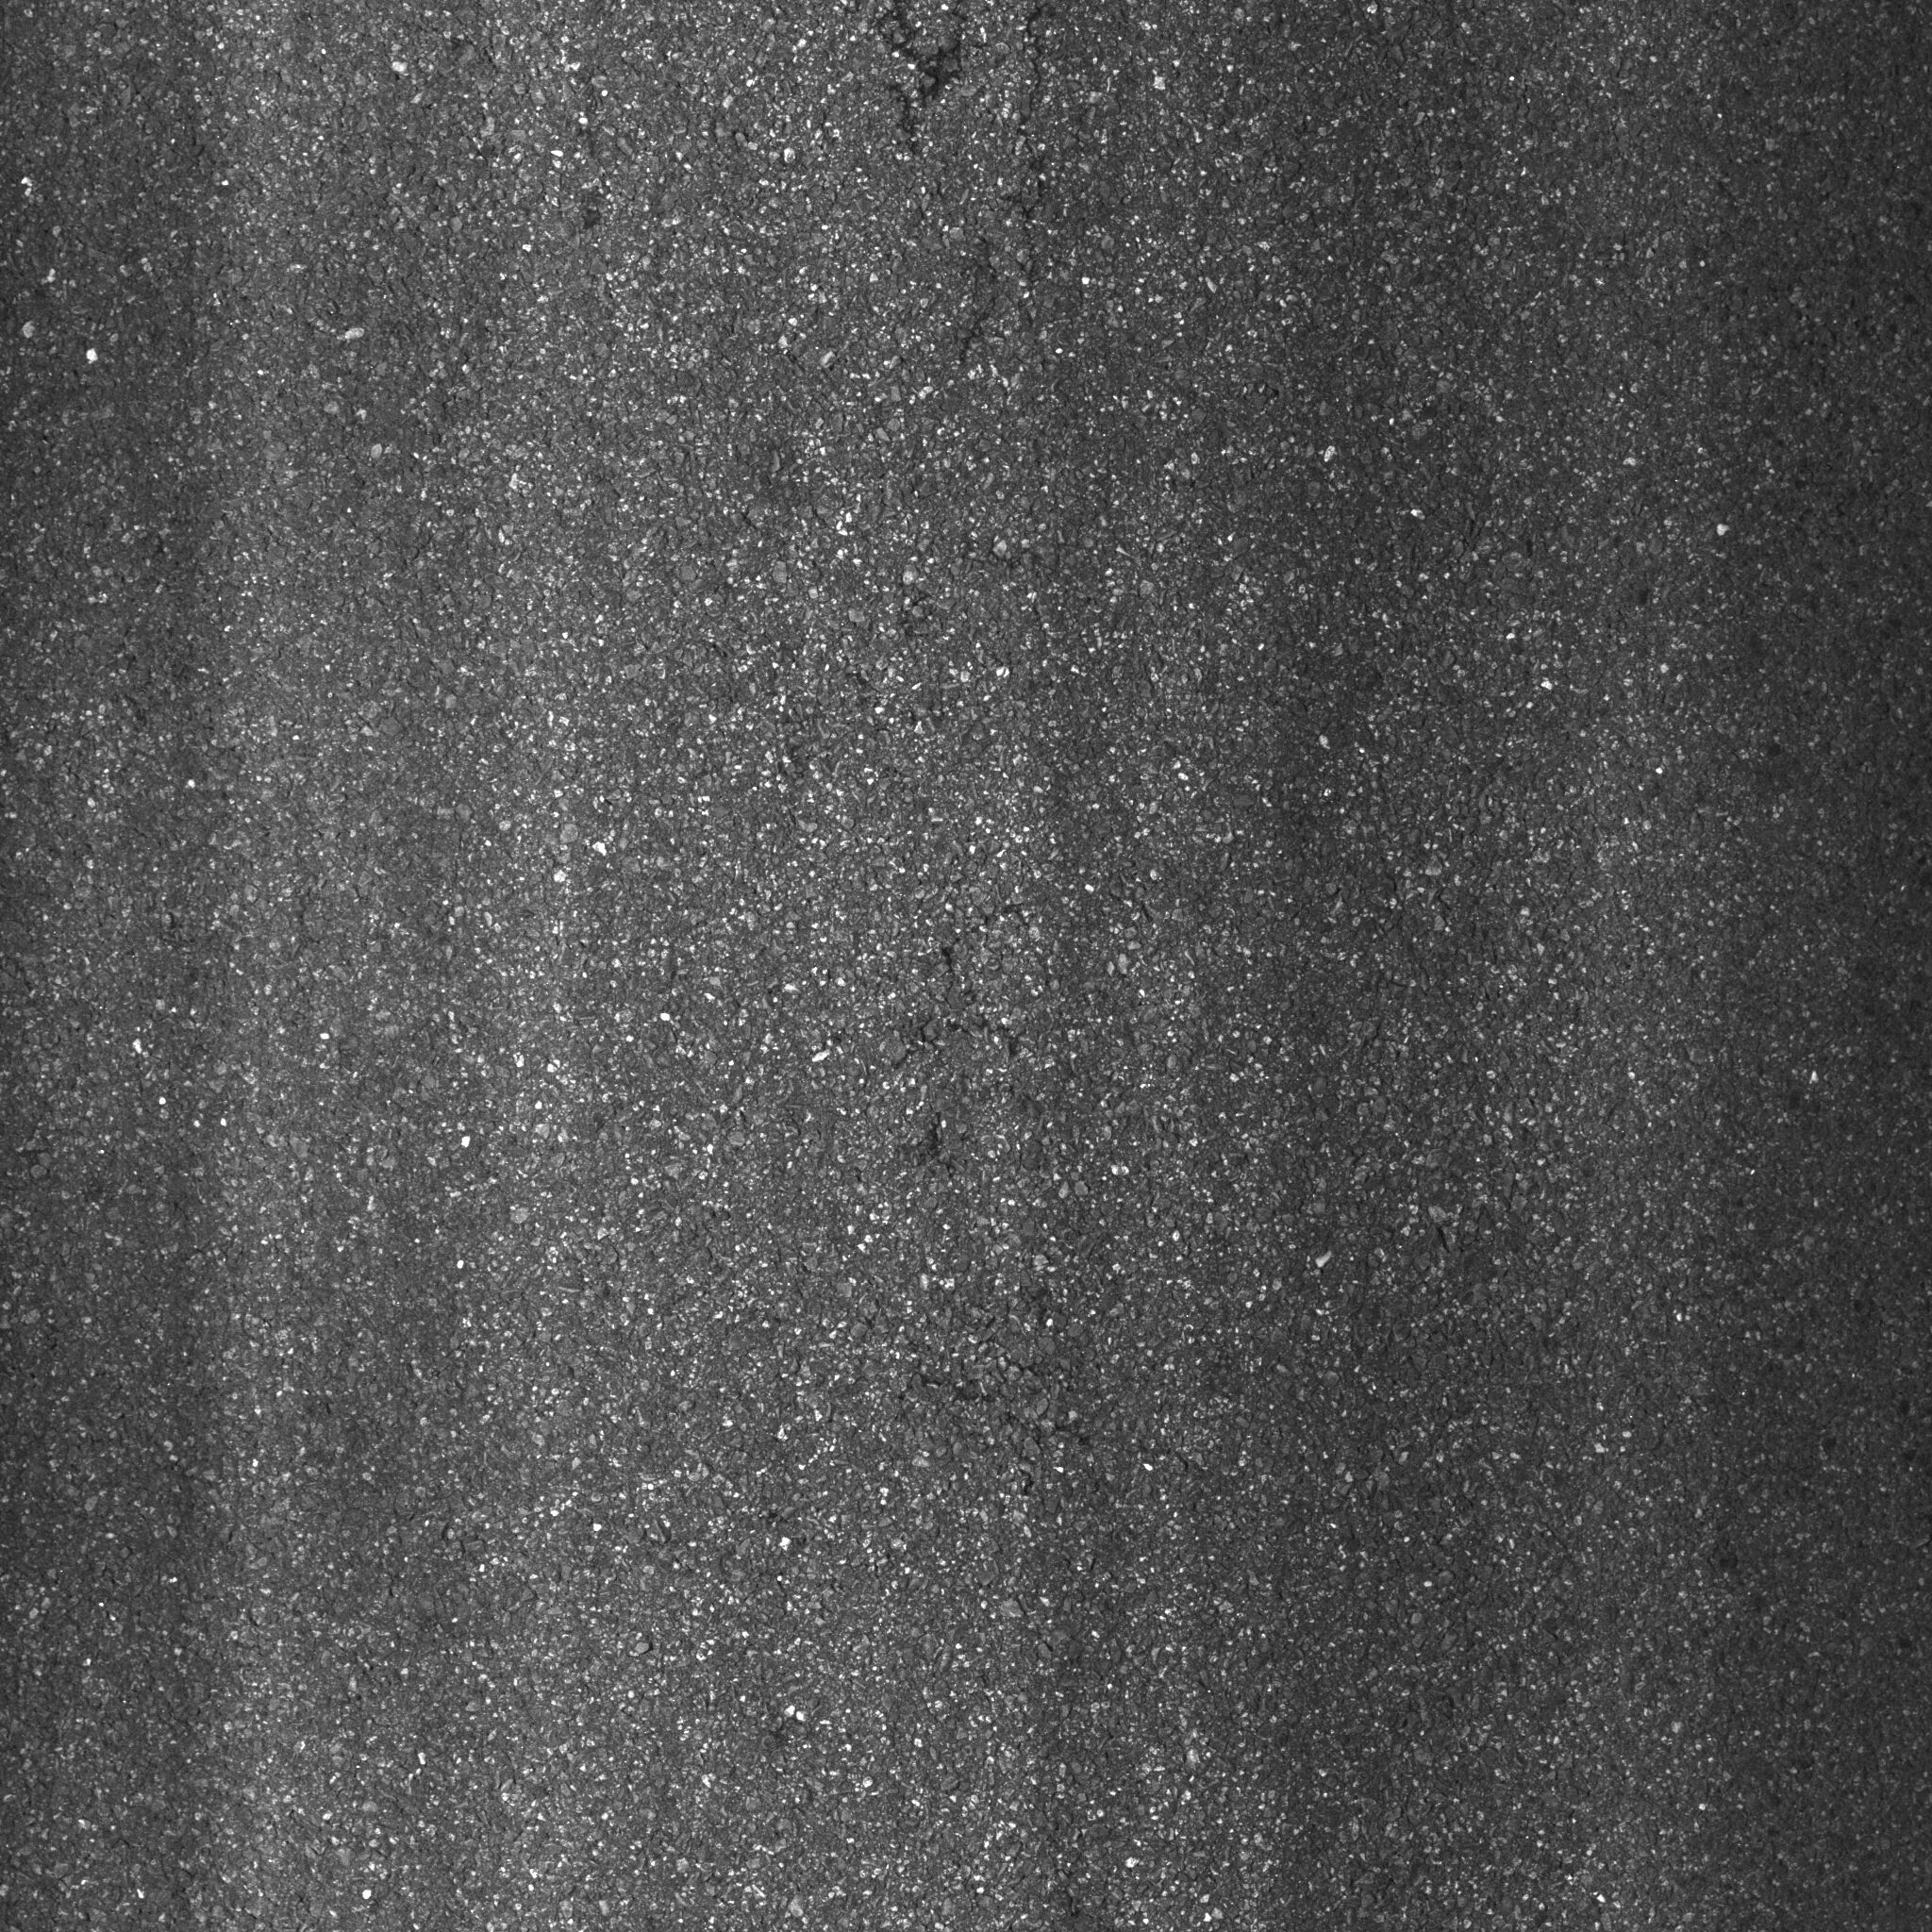alligator: (801, 2, 1056, 288)
